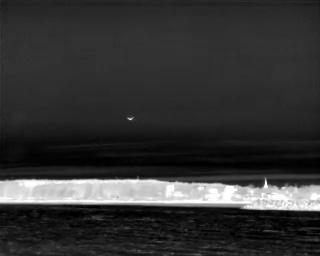BIRD: (125, 114, 135, 124)
